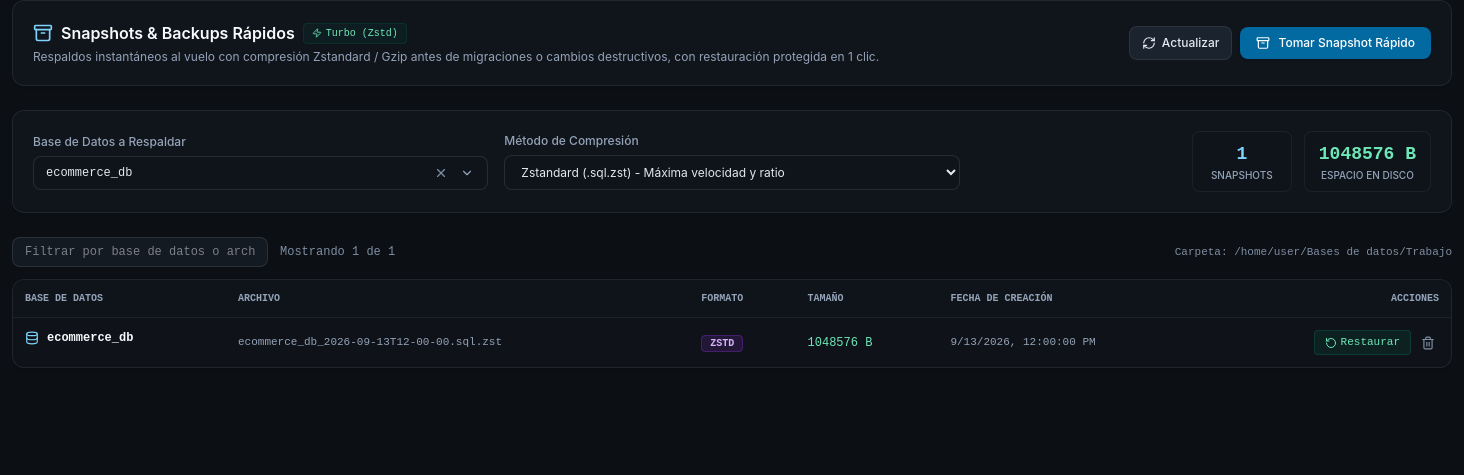
Test: SnapshotsTab › filters snapshots based on search input
Type "non_existent_db" into the field with placeholder "Filtrar por base de datos o archivo...".
click(140, 252); type("non_existent_db")  # box x1=12 y1=237 x2=268 y2=267
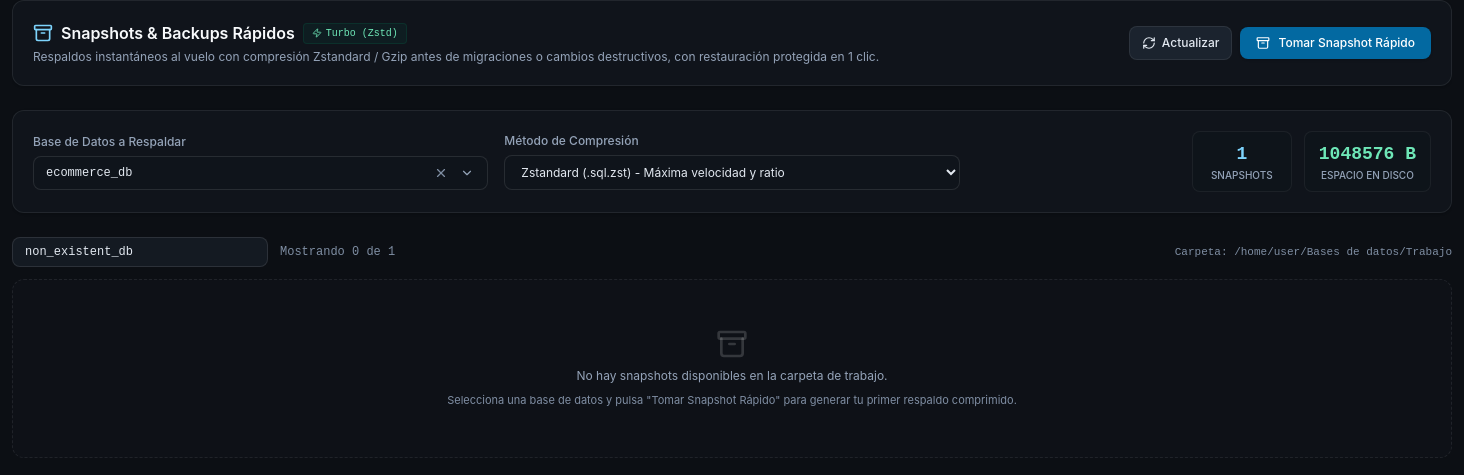
Expected: the text "No hay snapshots disponibles" is shown, x1=576 y1=368 x2=888 y2=383
